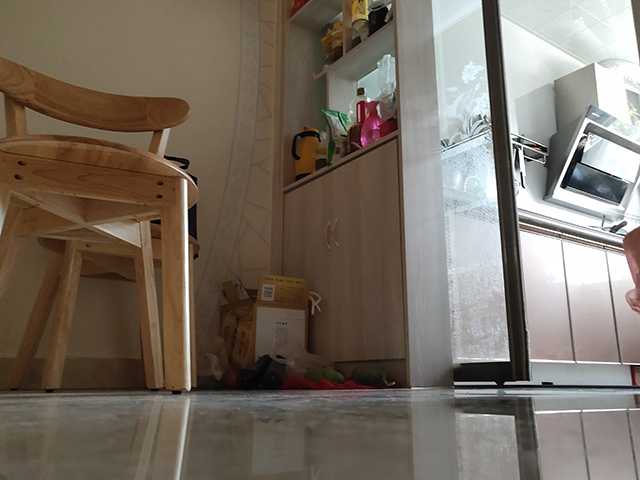cabinet: (269, 128, 439, 390), (514, 206, 640, 391)
stool: (1, 58, 205, 400)
